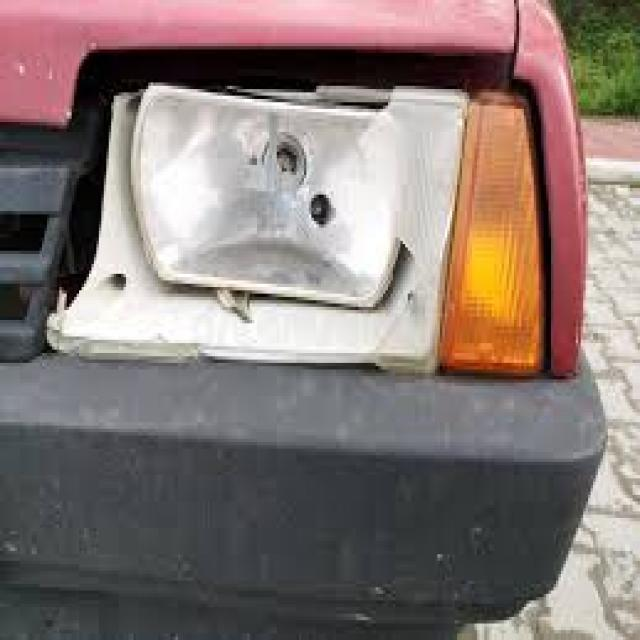damaged-head-light: (74, 56, 544, 372)
